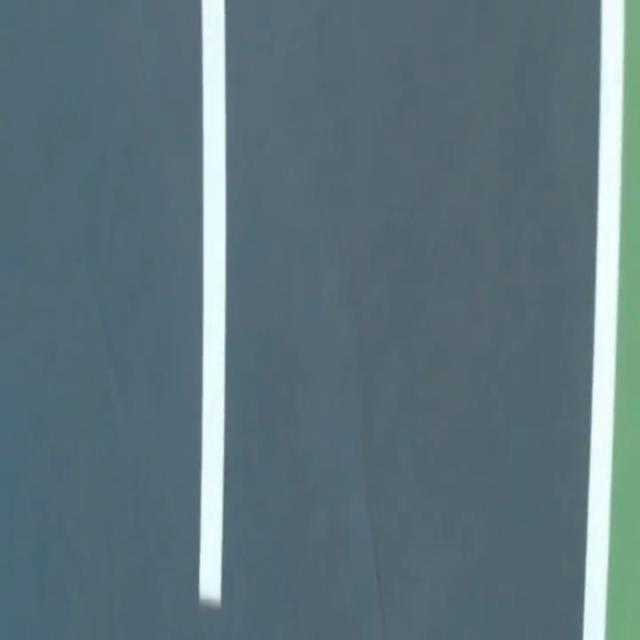center: (198, 0, 225, 606)
right: (582, 0, 624, 639)
